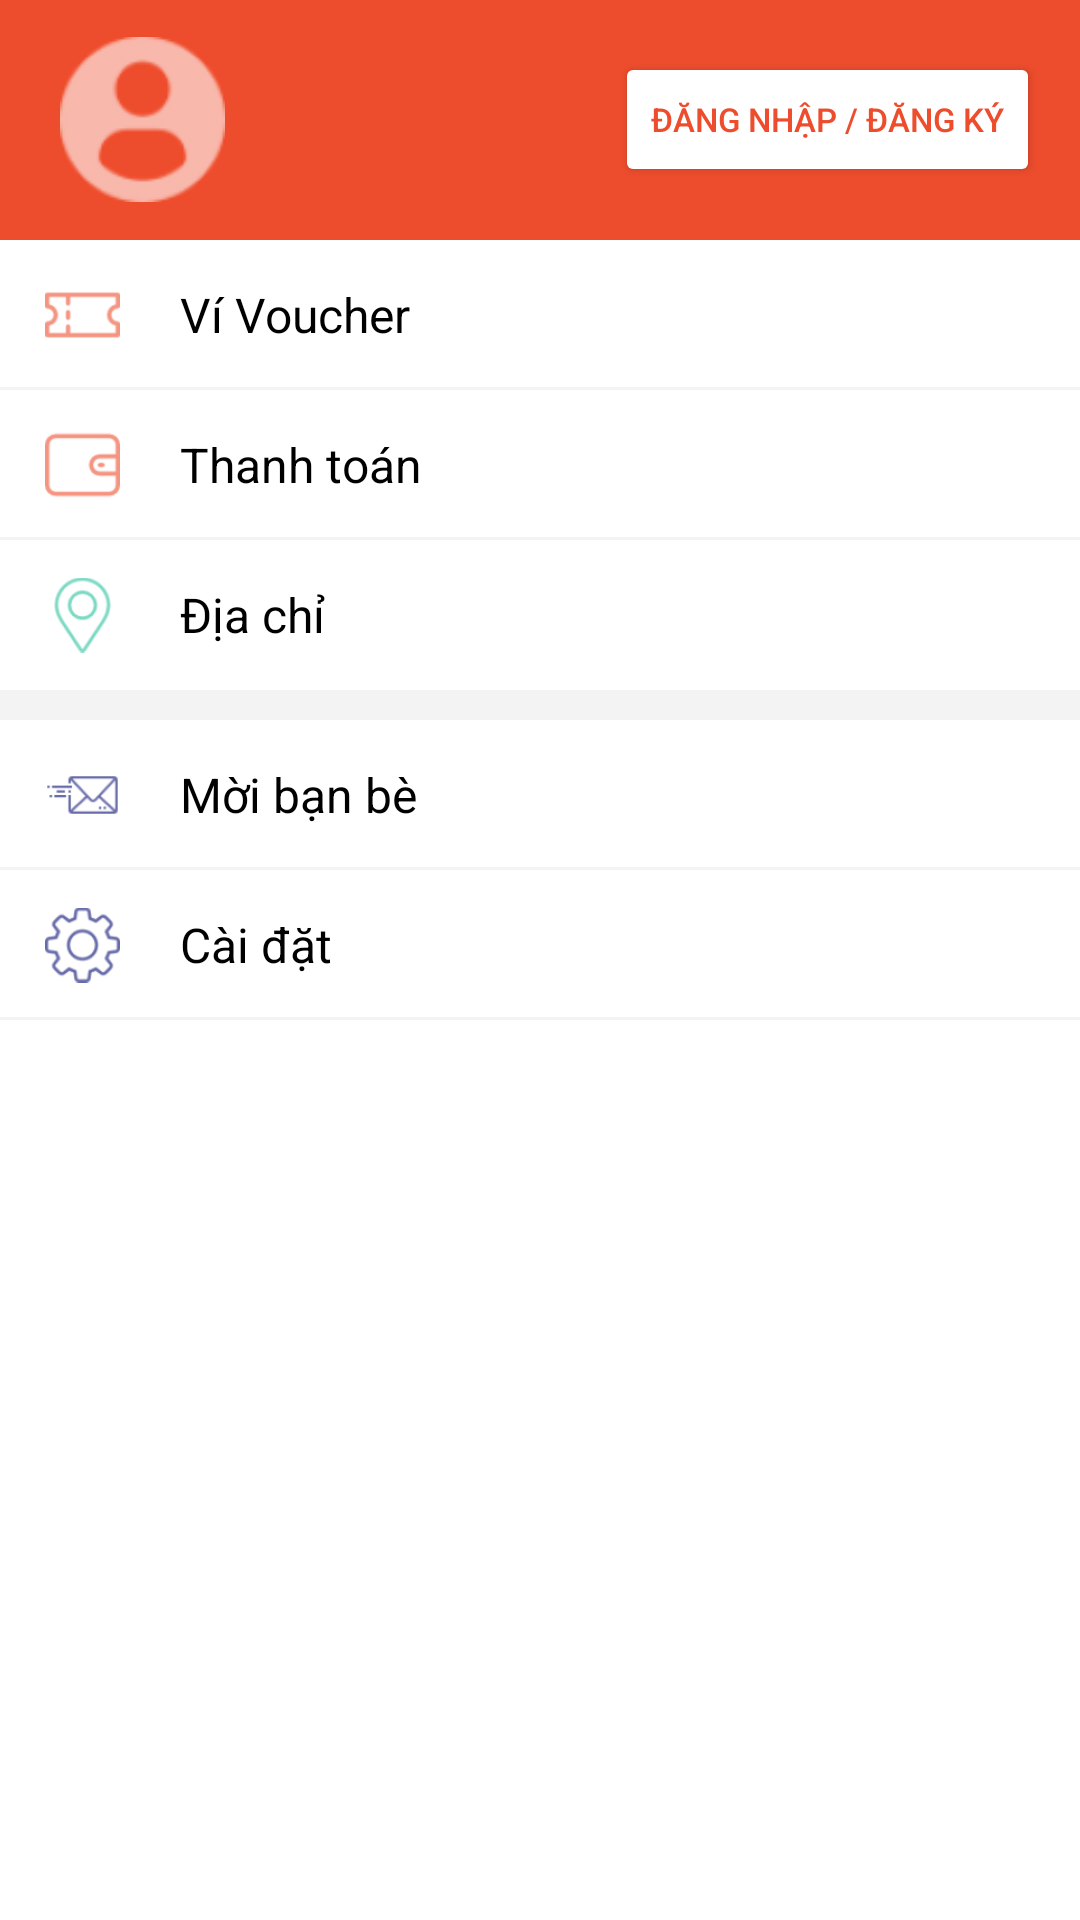

Screen size 1080px x 1920px. Icon name, then its box in pixels as bbox(x1, y1, x2, y2):
letter: bbox(47, 776, 118, 814)
pin location: bbox(54, 578, 111, 653)
setting: bbox(45, 908, 120, 983)
vourcher: bbox(45, 292, 120, 338)
wallet: bbox(45, 433, 120, 497)
